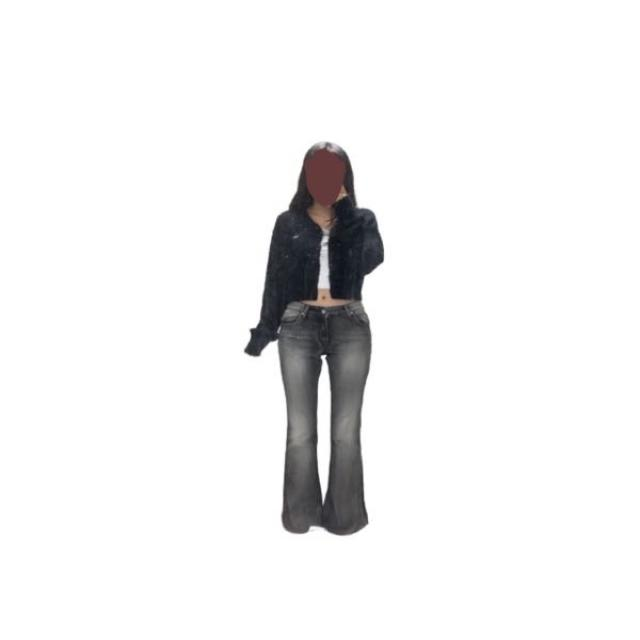cardigan: (246, 195, 385, 353)
denimpants: (278, 301, 376, 534)
